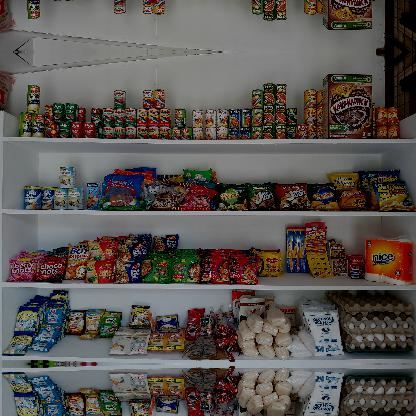Koko-Krunch: (324, 74, 372, 138), (323, 0, 373, 31)
